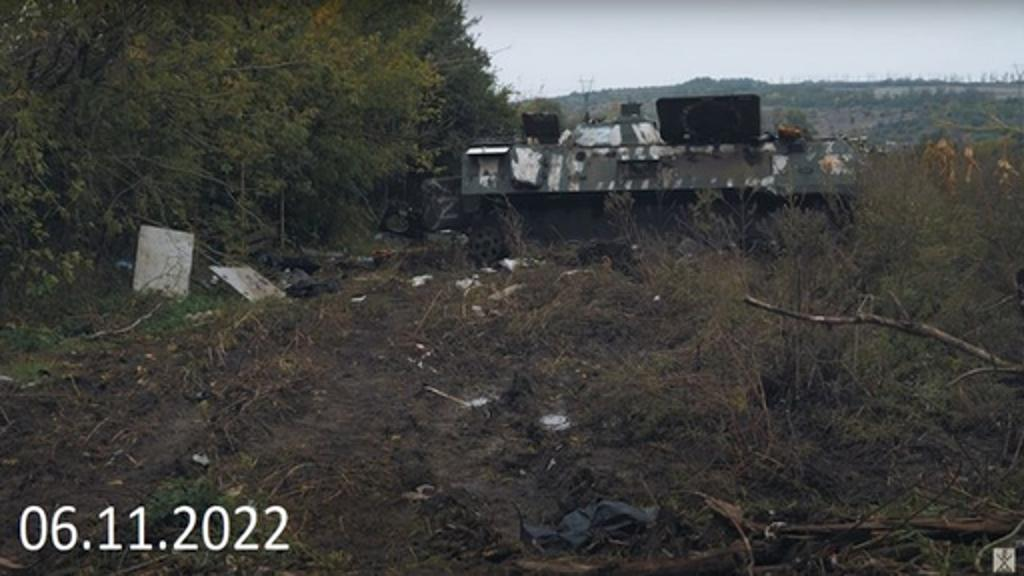APC-IFV: (448, 98, 884, 288)
